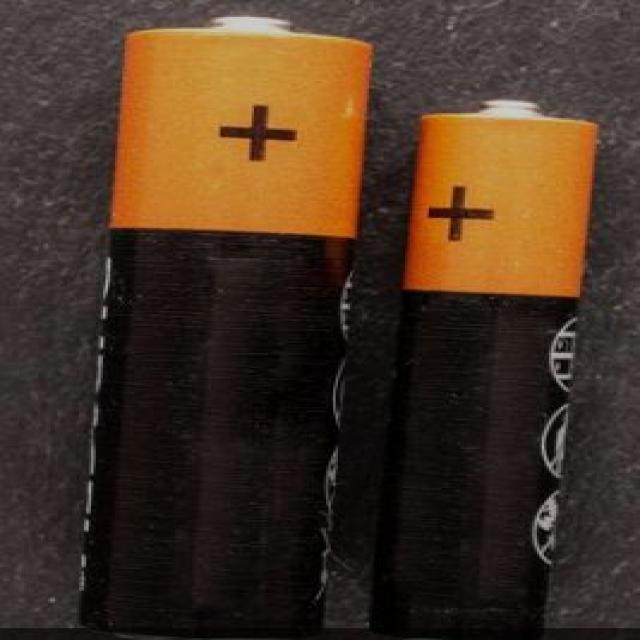electronic: (94, 0, 360, 640)
